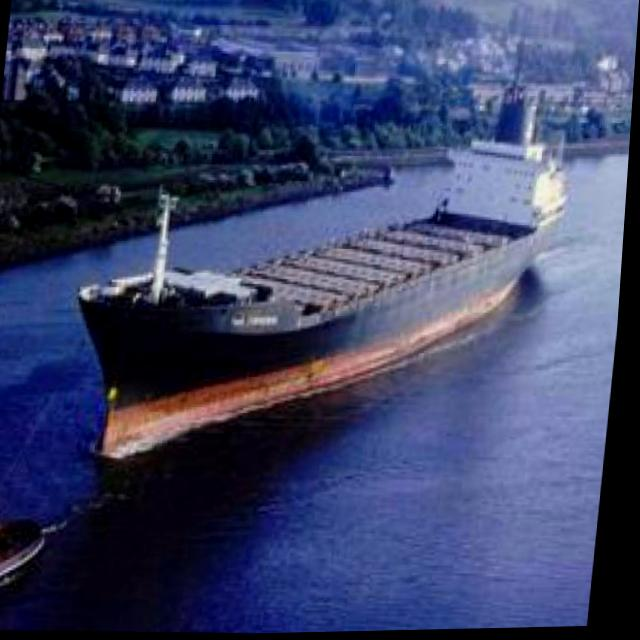ship2: (81, 88, 572, 462)
